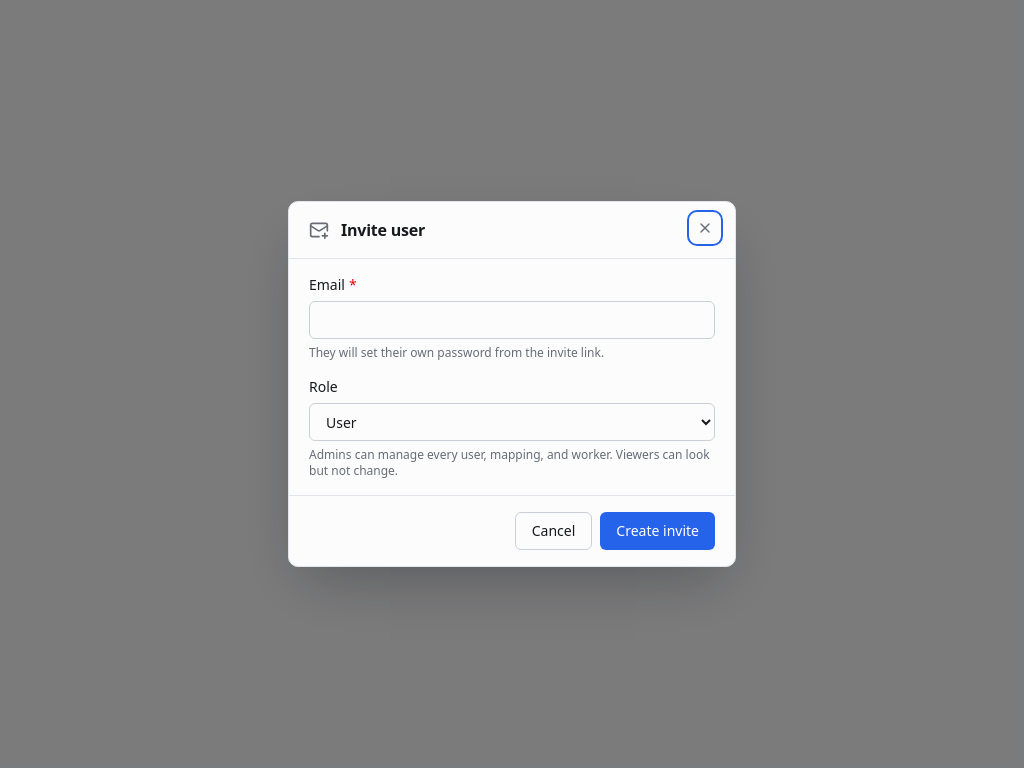
Test: InviteUserDialog › creates an invite and shows the link once
In the field labelled "Email*": (512,320) 309,301 -> 715,339, type "new@test.com"
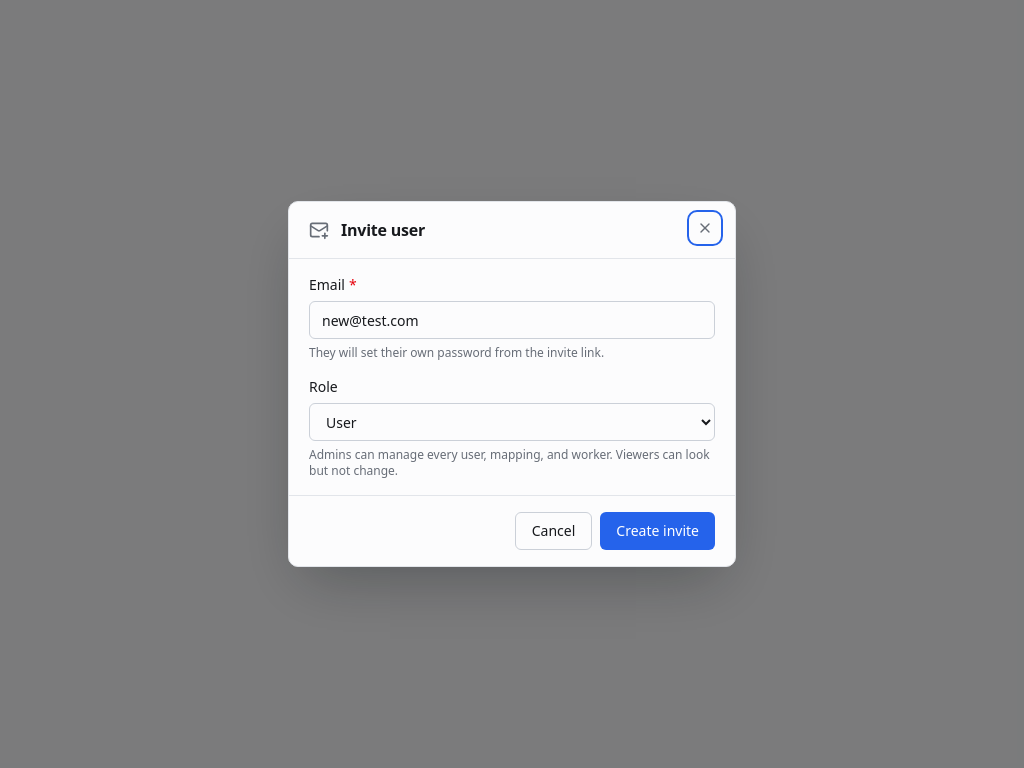
Click the button "Create invite": (658,531) 600,512 -> 715,550
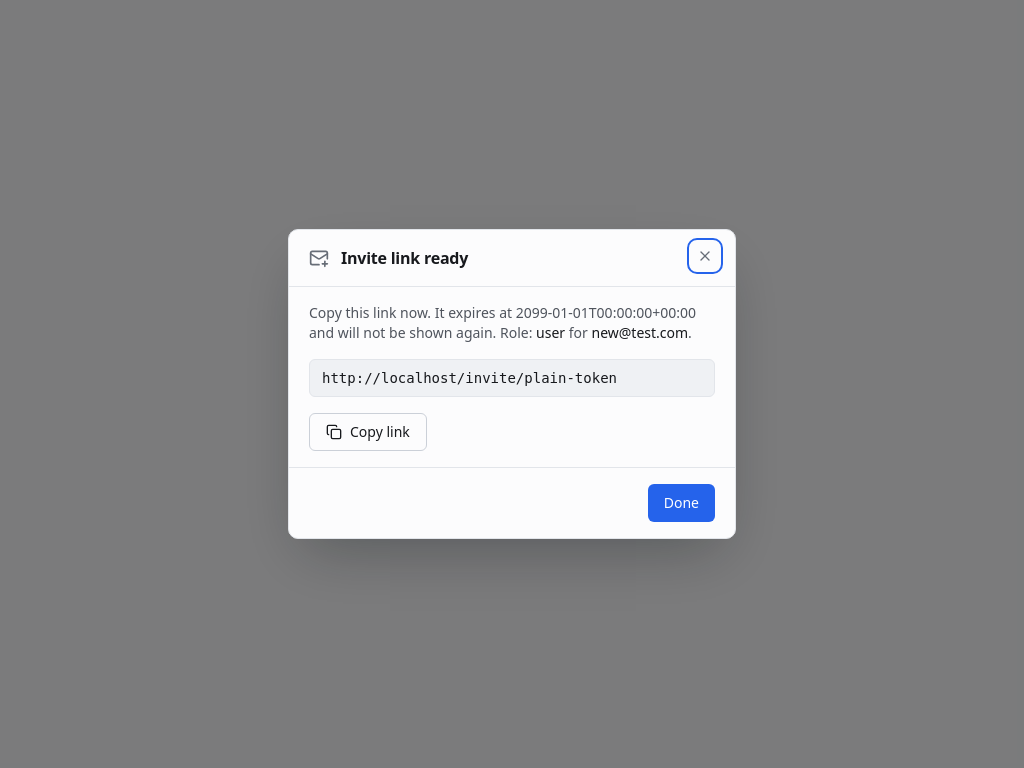
Check: the element with test id "invite-created" is shown, box 309,303 -> 715,451
Check: the text "http://localhost/invite/plain-token" is shown, box 309,359 -> 715,397
